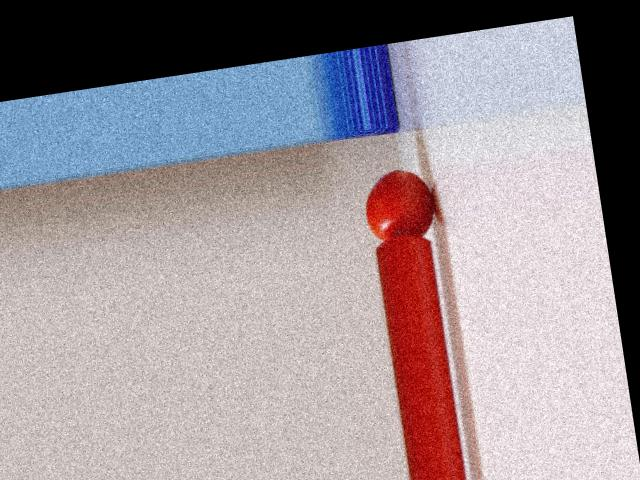tomato: (360, 165, 438, 242)
